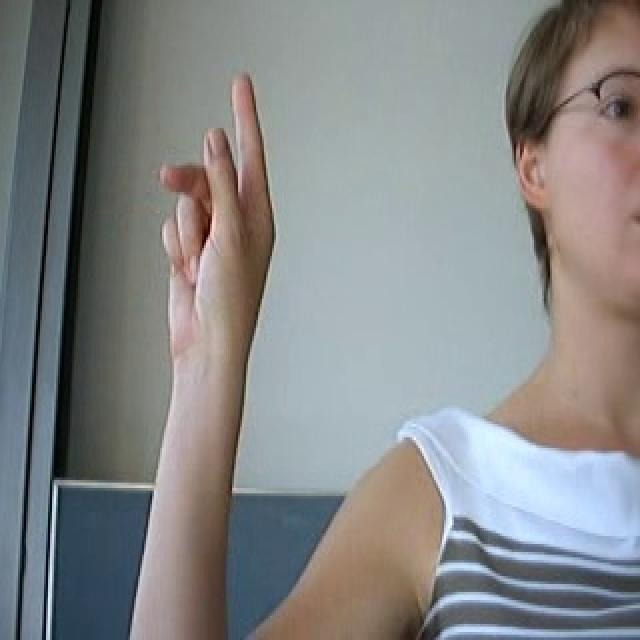K: (149, 67, 293, 376)
